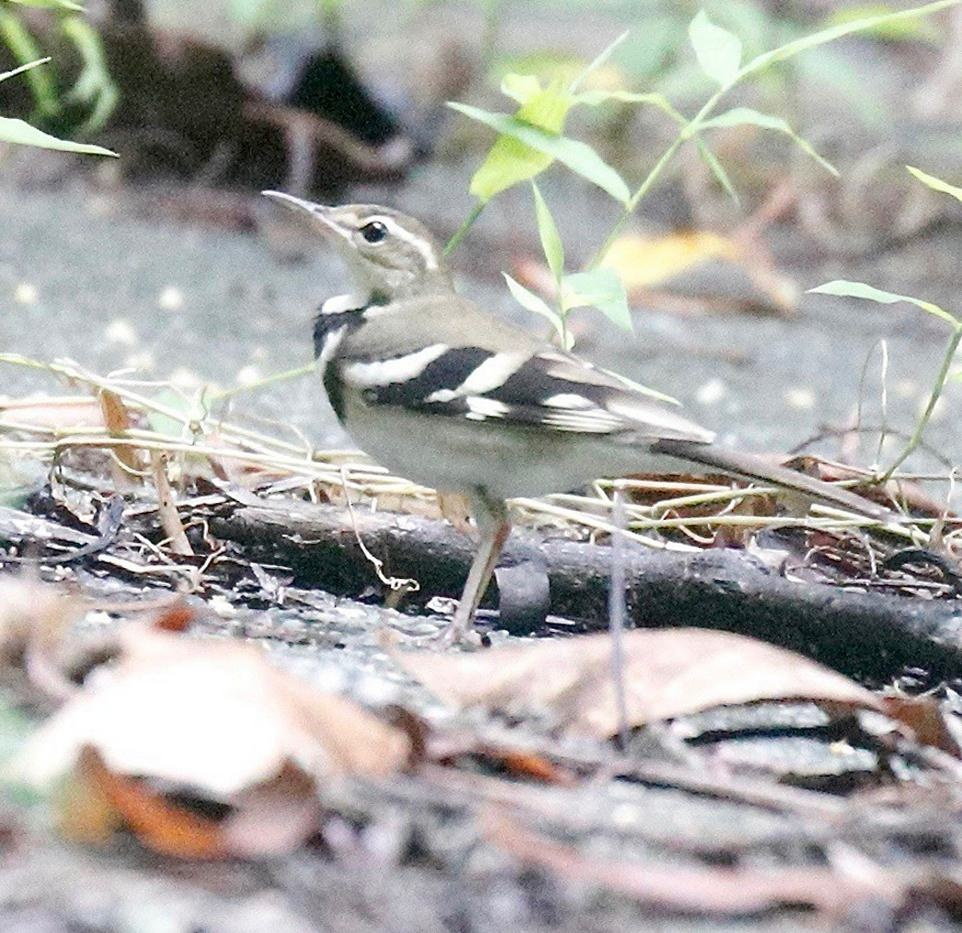wagtail: (271, 177, 705, 593)
